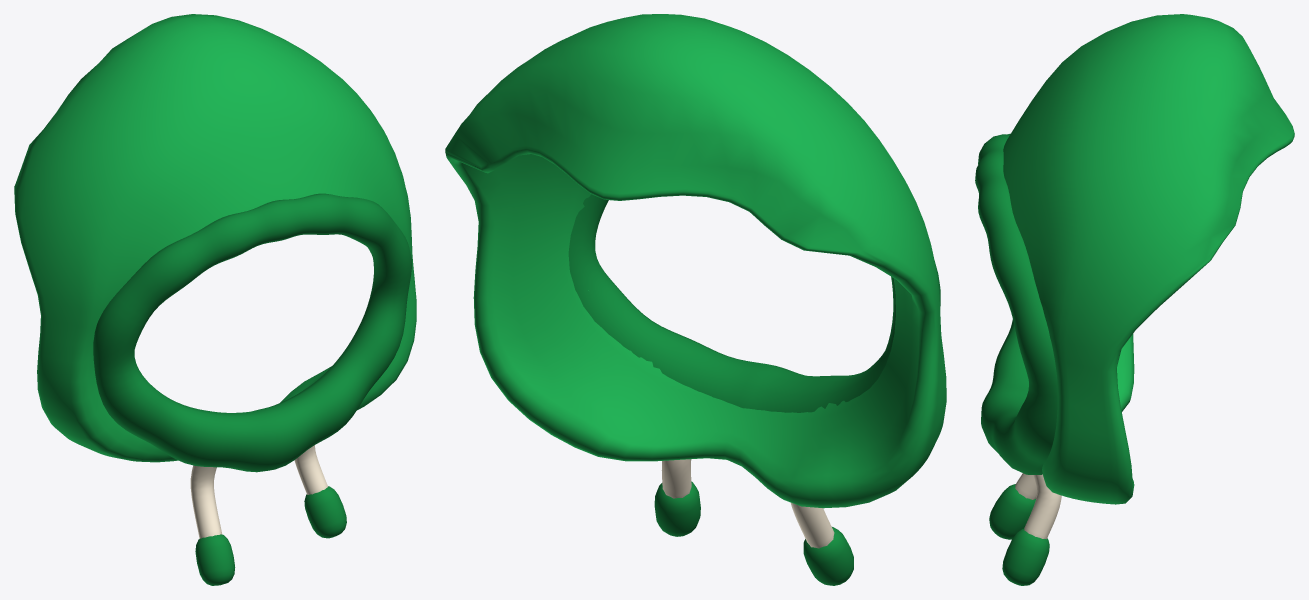
The model's file is hood.glb.
The picture shows the model from 3 angles, left to right: view 1: azimuth 30°, elevation 25°; view 2: azimuth 150°, elevation 25°; view 3: azimuth 270°, elevation 25°; orthographic projection. The views are drawn at different scales.
Visible parts, largest first — view 1: hood_shell, hood_rim, hood_cord_left, hood_tip_left, hood_tip_right, hood_cord_right; view 2: hood_shell, hood_rim, hood_tip_left, hood_tip_right, hood_cord_left, hood_cord_right; view 3: hood_shell, hood_rim, hood_tip_right, hood_tip_left, hood_cord_right, hood_cord_left.
Part boxes in pixels (box(x1,y1,x2,y2)): hood_shell: box(14, 14, 416, 462); hood_rim: box(93, 193, 411, 472); hood_cord_left: box(190, 465, 222, 538); hood_tip_left: box(195, 534, 235, 585); hood_tip_right: box(304, 486, 346, 538); hood_cord_right: box(294, 445, 327, 494); hood_shell: box(445, 14, 946, 508); hood_rim: box(568, 194, 940, 412); hood_tip_left: box(803, 527, 853, 585); hood_tip_right: box(654, 481, 700, 536); hood_cord_left: box(791, 502, 834, 548); hood_cord_right: box(661, 459, 691, 498); hood_shell: box(1003, 14, 1294, 504); hood_rim: box(975, 133, 1057, 474); hood_tip_right: box(1002, 528, 1049, 585); hood_tip_left: box(989, 484, 1035, 539); hood_cord_right: box(1024, 474, 1061, 539); hood_cord_left: box(1015, 473, 1037, 499).
Bounding box in the file's own units: 1.46 × 1.85 × 0.9957.
